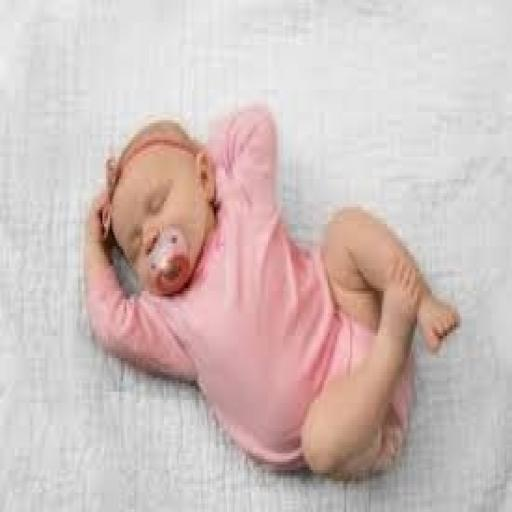sleeping: (80, 98, 462, 484)
